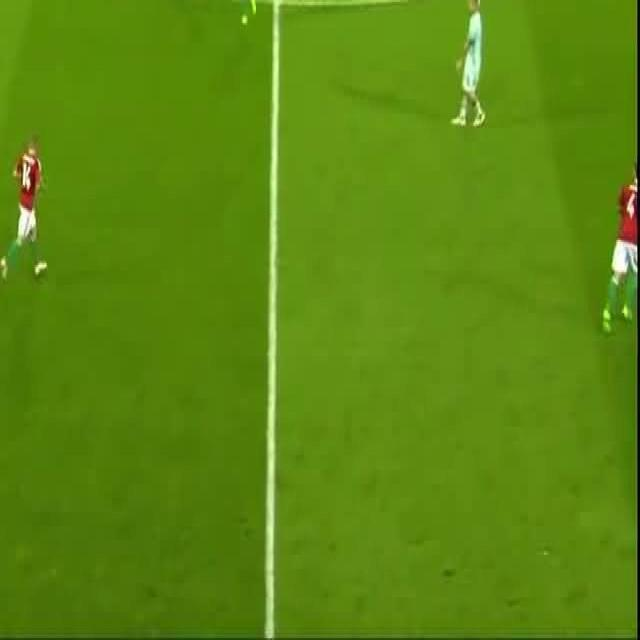player-white: (0, 139, 47, 281), (601, 163, 640, 334), (452, 0, 485, 124), (239, 0, 268, 25)
